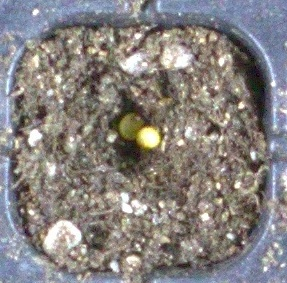chilli seed: (118, 112, 145, 140), (136, 127, 161, 149)
